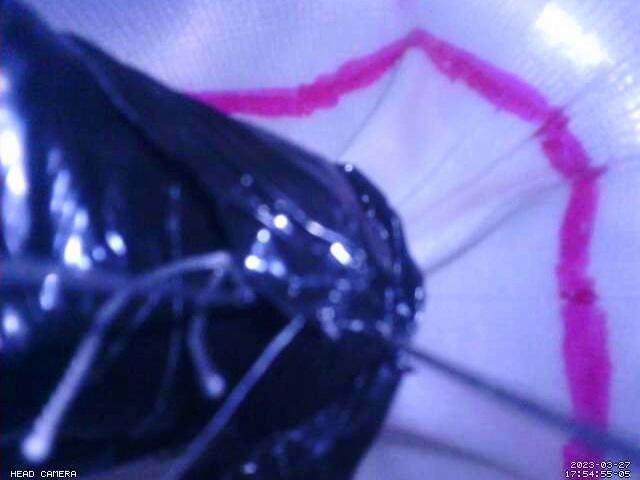red-circle: (181, 26, 614, 480)
